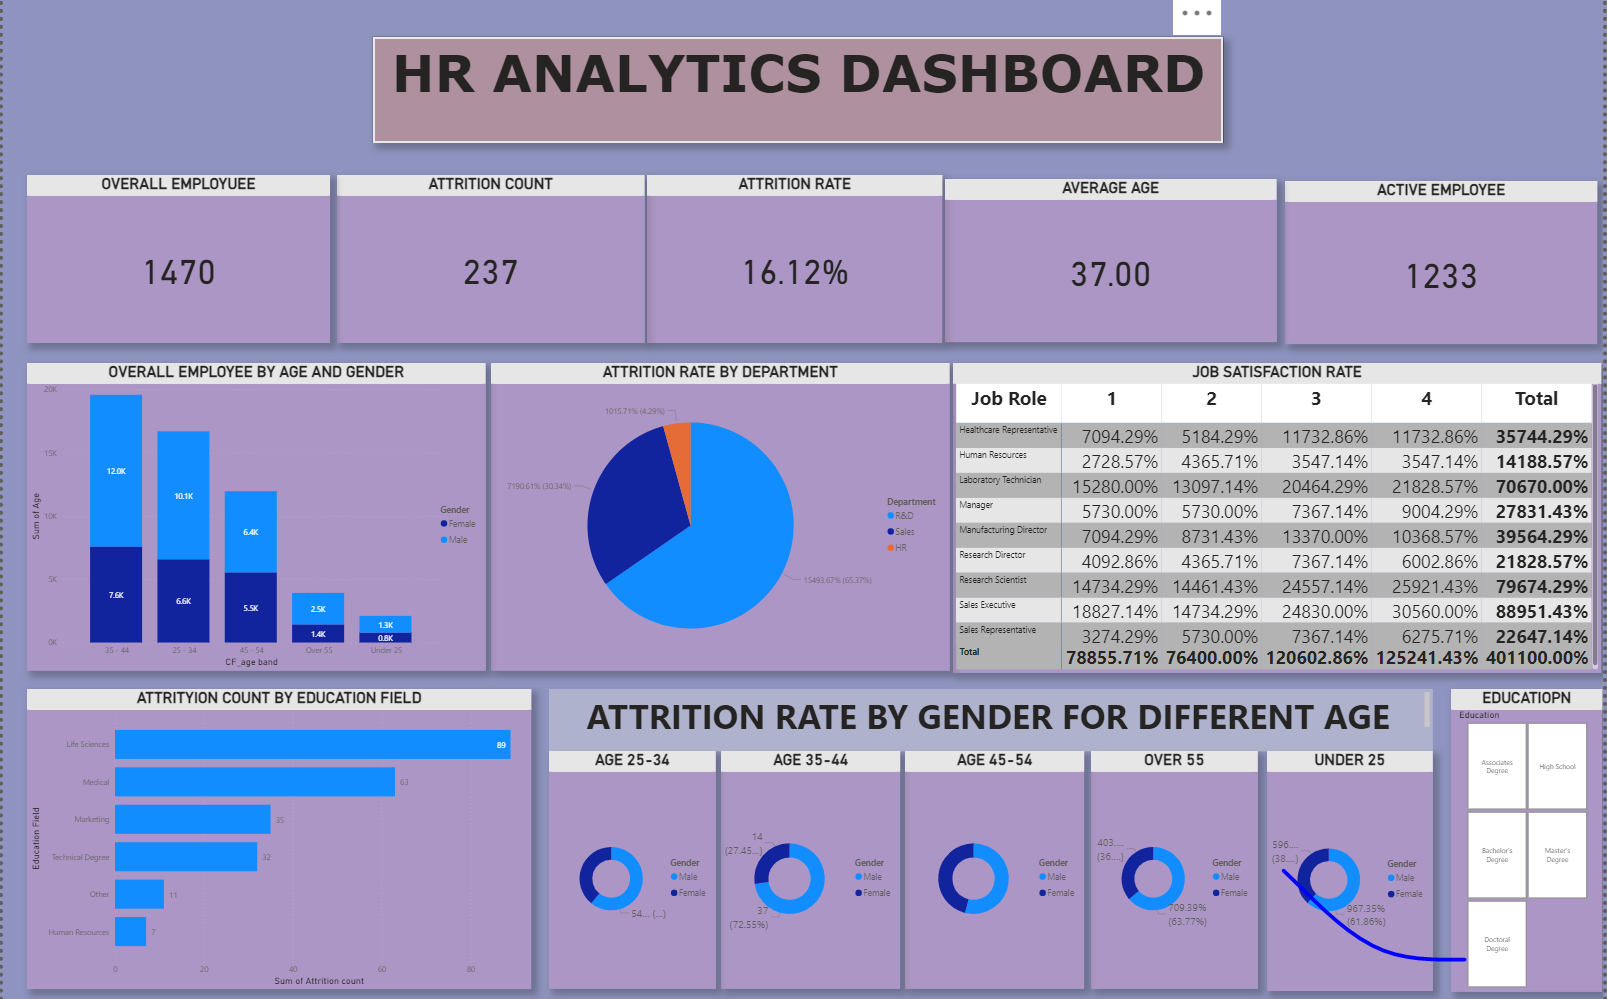

The page's visual inventory and layout, read from the dashboard file:
{"tool":"powerbi","page":{"name":"Page 1","canvas":[2500,2000],"ordinal":0},"visuals":[{"type":"card","title":"ATTRITION COUNT","fields":{"Values":["Sum(HR data.Attrition count)"]},"box":[521.6,277.7,480.3,262.7],"z":0},{"type":"donutChart","title":"AGE 25-34","fields":{"Y":["Sum(HR data.Attrition Rate)"],"Category":["HR data.Gender"],"Series":["HR data.CF_age band"]},"box":[851.8,1178.2,260.4,371.5],"z":0,"group":"g1"},{"type":"card","title":"OVERALL EMPLOYUEE","fields":{"Values":["CountNonNull(HR data.OVERALL EMPLOYEE)"]},"box":[37.5,277.7,473.4,262.7],"z":1000,"group":"g2"},{"type":"donutChart","title":"AGE 35-44","fields":{"Y":["Sum(HR data.Attrition count)"],"Category":["HR data.Gender"],"Series":["HR data.CF_age band"]},"box":[1120.1,1178.2,280.2,371.5],"z":1000,"group":"g1"},{"type":"card","title":"ATTRITION RATE","fields":{"Values":["Avg(HR data.Attrition Rate)"]},"box":[1005.6,277.7,461.5,262.7],"z":2000},{"type":"donutChart","title":"AGE 45-54","fields":{"Y":["Sum(HR data.Attrition Rate)"],"Category":["HR data.Gender"],"Series":["HR data.CF_age band"]},"box":[1408.2,1178.2,280.2,371.5],"z":2000,"group":"g1"},{"type":"card","title":"ACTIVE EMPLOYEE","fields":{"Values":["Min(HR data.active employee)"]},"box":[2001.8,286.4,487.8,255.2],"z":3000,"group":"g2"},{"type":"donutChart","title":"OVER 55","fields":{"Y":["Sum(HR data.Attrition Rate)"],"Category":["HR data.Gender"],"Series":["HR data.CF_age band"]},"box":[1700.2,1178.2,260.4,371.5],"z":3000,"group":"g1"},{"type":"card","title":"AVERAGE AGE","fields":{"Values":["Avg(HR data.Aversge Age)"]},"box":[1470.9,285.2,517.8,255.2],"z":4000,"group":"g2"},{"type":"donutChart","title":"UNDER 25","fields":{"Y":["Sum(HR data.Attrition Rate)"],"Category":["HR data.Gender"],"Series":["HR data.CF_age band"]},"box":[1974.6,1177.3,258.9,375.2],"z":4000,"group":"g1"},{"type":"textbox","box":[577.9,63.8,1328.3,165.1],"z":5000},{"type":"columnChart","title":" OVERALL EMPLOYEE BY AGE AND GENDER","fields":{"Y":["Sum(HR data.Age)"],"Category":["HR data.CF_age band"],"Series":["HR data.Gender"]},"box":[37.5,570.4,716.7,480.3],"z":6000},{"type":"pieChart","title":"ATTRITION RATE BY DEPARTMENT","fields":{"Y":["Sum(HR data.Attrition Rate)"],"Category":["HR data.Department"]},"box":[761.7,570.4,716.7,480.3],"z":7000},{"type":"pivotTable","title":"JOB SATISFACTION RATE","fields":{"Rows":["HR data.Job Role"],"Columns":["HR data.Job Satisfaction"],"Values":["Sum(HR data.Job satisfaction rate)"]},"box":[1485.9,570.4,1013.1,484.1],"z":8000},{"type":"clusteredBarChart","title":"ATTRITYION COUNT BY EDUCATION FIELD","fields":{"Y":["Sum(HR data.Attrition count)"],"Category":["HR data.Education Field"]},"box":[37.5,1080.7,788,469],"z":9000},{"type":"slicer","title":"EDUCATIOPN","fields":{"Values":["HR data.Education"]},"box":[2262.7,1080.7,236.4,472.8],"z":10000},{"type":"group","id":"g1","title":"Group 1","box":[851.8,1177.3,1381.7,375.2],"z":11000},{"type":"textbox","box":[851.8,1080.7,1380.9,97.6],"z":11001},{"type":"group","id":"g2","title":"Group 2","box":[37.5,277.7,2452.1,263.9],"z":11002}]}

Visuals, with their boxes on the page's 2500x2000 design canvas (x1, y1, x2, y2). These are canvas units, not pixel positions in the 1607x999 screenshot, which may show the page scaled, cropped or inside an application window:
"ATTRITION COUNT" card: <bbox>522, 278, 1002, 540</bbox>
"AGE 25-34" donutChart: <bbox>852, 1178, 1112, 1550</bbox>
"OVERALL EMPLOYUEE" card: <bbox>38, 278, 511, 540</bbox>
"AGE 35-44" donutChart: <bbox>1120, 1178, 1400, 1550</bbox>
"ATTRITION RATE" card: <bbox>1006, 278, 1467, 540</bbox>
"AGE 45-54" donutChart: <bbox>1408, 1178, 1688, 1550</bbox>
"ACTIVE EMPLOYEE" card: <bbox>2002, 286, 2490, 542</bbox>
"OVER 55" donutChart: <bbox>1700, 1178, 1961, 1550</bbox>
"AVERAGE AGE" card: <bbox>1471, 285, 1989, 540</bbox>
"UNDER 25" donutChart: <bbox>1975, 1177, 2234, 1552</bbox>
textbox: <bbox>578, 64, 1906, 229</bbox>
" OVERALL EMPLOYEE BY AGE AND GENDER" columnChart: <bbox>38, 570, 754, 1051</bbox>
"ATTRITION RATE BY DEPARTMENT" pieChart: <bbox>762, 570, 1478, 1051</bbox>
"JOB SATISFACTION RATE" pivotTable: <bbox>1486, 570, 2499, 1054</bbox>
"ATTRITYION COUNT BY EDUCATION FIELD" clusteredBarChart: <bbox>38, 1081, 826, 1550</bbox>
"EDUCATIOPN" slicer: <bbox>2263, 1081, 2499, 1554</bbox>
"Group 1" group: <bbox>852, 1177, 2234, 1552</bbox>
textbox: <bbox>852, 1081, 2233, 1178</bbox>
"Group 2" group: <bbox>38, 278, 2490, 542</bbox>
